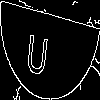U: (25, 24, 50, 77)
